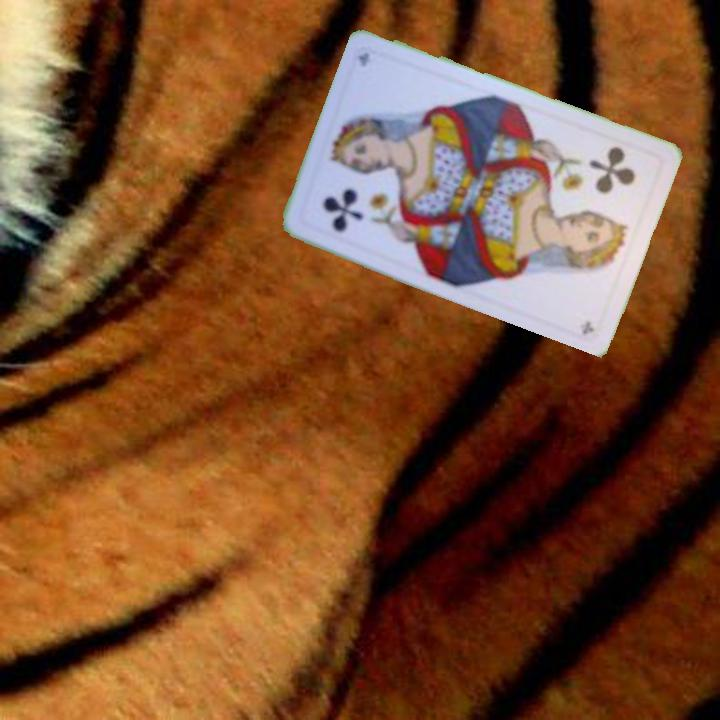c_q.png: (296, 133, 410, 255), (550, 128, 664, 250)
